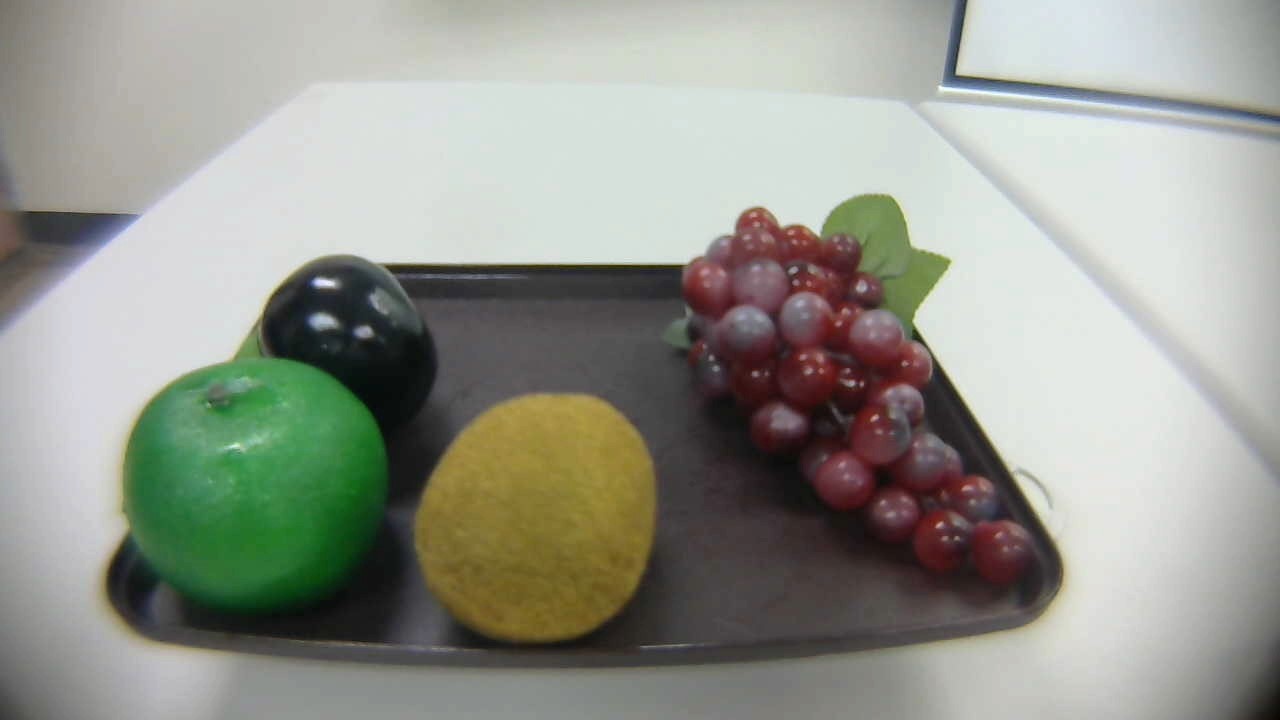grape: (663, 196, 1067, 611)
green orange: (112, 354, 398, 634)
kiwi fruit: (407, 386, 682, 649)
mangosteen: (233, 265, 440, 437)
